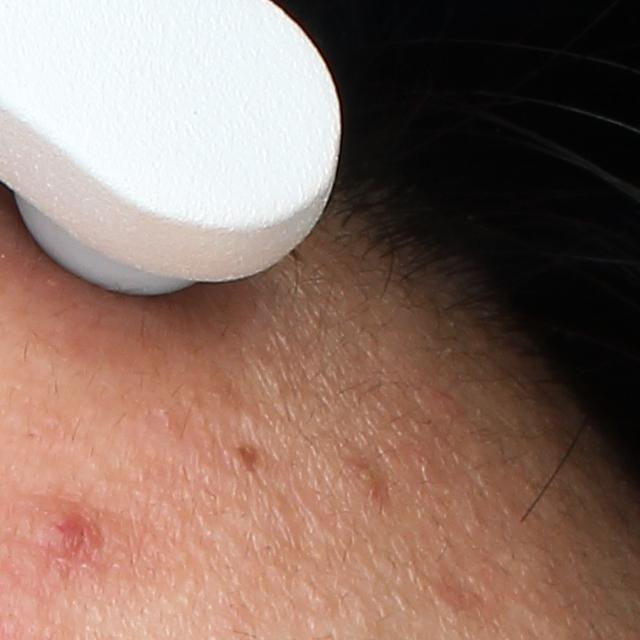comedo: (236, 405, 263, 436)
papule: (35, 501, 115, 572)
